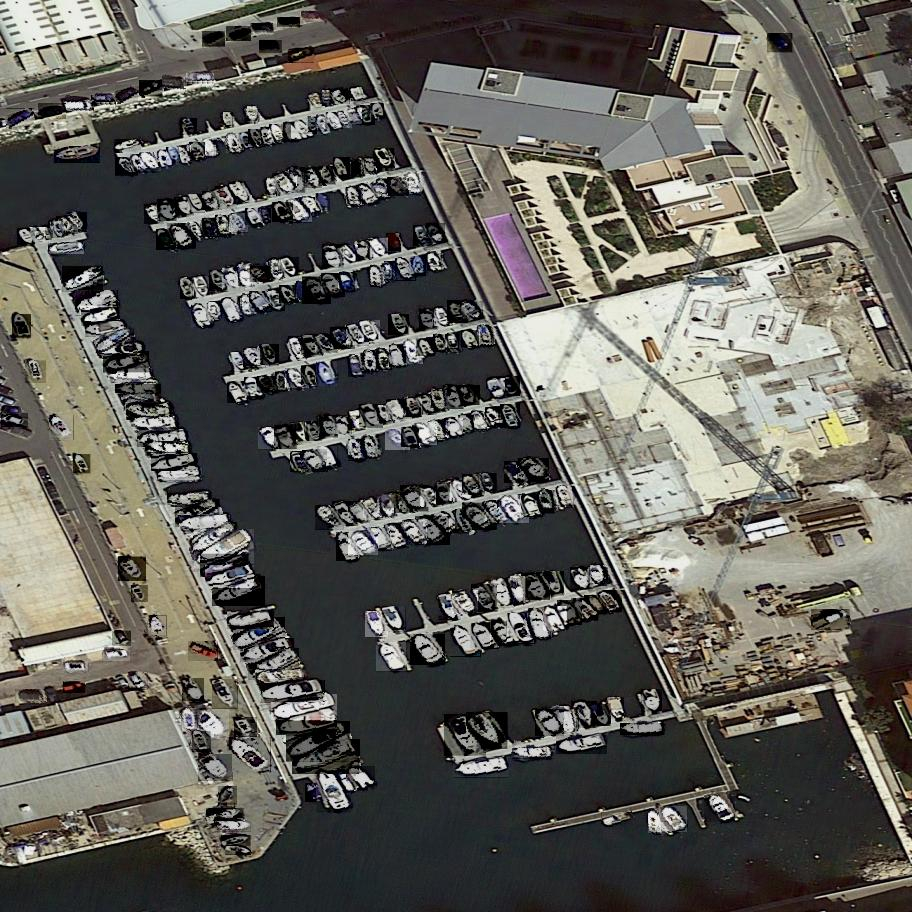ship: (286, 721, 350, 764), (194, 528, 254, 573), (292, 738, 360, 776), (444, 711, 486, 760), (271, 694, 337, 723), (234, 616, 286, 652), (249, 647, 299, 684), (466, 709, 508, 753), (316, 766, 352, 817), (228, 733, 271, 775), (213, 576, 266, 609), (261, 680, 325, 704), (276, 712, 337, 737), (241, 637, 294, 665), (193, 522, 238, 554), (175, 498, 220, 529), (193, 707, 230, 743), (411, 631, 445, 669), (62, 265, 103, 295), (205, 565, 254, 590), (201, 554, 249, 579), (198, 752, 233, 786), (416, 513, 450, 547), (103, 351, 149, 376), (451, 623, 482, 660), (507, 610, 537, 648), (76, 290, 118, 317), (463, 500, 497, 533), (376, 639, 407, 675), (453, 758, 508, 778), (705, 790, 736, 825), (521, 569, 551, 604), (500, 492, 530, 527), (123, 386, 162, 412), (557, 735, 607, 755), (97, 327, 134, 354), (535, 706, 565, 739), (212, 677, 239, 713), (471, 581, 499, 615), (518, 455, 549, 485), (303, 275, 332, 307), (152, 453, 197, 473), (346, 763, 376, 793), (167, 221, 196, 252), (471, 620, 499, 652), (228, 611, 274, 630), (349, 529, 379, 558), (660, 804, 688, 835), (137, 431, 188, 448), (180, 516, 231, 533), (315, 504, 344, 533), (491, 620, 519, 650), (452, 587, 480, 617), (284, 195, 312, 225), (401, 484, 429, 514), (572, 699, 598, 731), (528, 605, 551, 641), (119, 555, 146, 585), (206, 808, 244, 829), (256, 670, 305, 686), (571, 596, 599, 624), (126, 403, 172, 420), (557, 598, 582, 629), (382, 604, 407, 635), (492, 576, 514, 611), (55, 147, 100, 164), (82, 307, 120, 327), (365, 608, 388, 641), (384, 521, 410, 550), (333, 499, 358, 529), (336, 530, 357, 565), (412, 421, 438, 449), (258, 425, 284, 453), (234, 715, 259, 744), (597, 587, 622, 616), (545, 603, 568, 634), (504, 460, 530, 487), (403, 518, 428, 546), (367, 525, 392, 553), (322, 271, 346, 300), (359, 402, 383, 431), (145, 442, 191, 457), (542, 569, 565, 599), (97, 343, 143, 358), (438, 592, 460, 623), (50, 414, 74, 442), (322, 241, 344, 271), (85, 321, 126, 337), (303, 448, 328, 474), (387, 398, 412, 424), (331, 326, 356, 352), (229, 179, 253, 206), (450, 476, 474, 503), (182, 676, 205, 704), (556, 704, 576, 736), (521, 491, 543, 520), (192, 301, 213, 331), (317, 359, 338, 389), (273, 171, 297, 197), (486, 498, 510, 524), (386, 428, 410, 454), (274, 424, 297, 451), (158, 468, 202, 482), (108, 368, 152, 382), (571, 565, 593, 593), (228, 379, 250, 407), (222, 266, 244, 294), (359, 318, 381, 346), (221, 296, 242, 325), (356, 181, 380, 206), (435, 510, 459, 535), (26, 357, 46, 387), (285, 367, 309, 392), (346, 322, 369, 348), (291, 420, 313, 447), (448, 299, 470, 326), (302, 332, 323, 360), (500, 403, 520, 432), (444, 383, 464, 412), (642, 687, 662, 716), (243, 347, 267, 371), (499, 373, 521, 399), (292, 116, 314, 142), (215, 185, 237, 211), (416, 392, 438, 418), (404, 337, 423, 367), (590, 702, 611, 729), (318, 444, 339, 471), (395, 256, 415, 284), (390, 311, 410, 339), (584, 594, 607, 618), (387, 176, 411, 199), (462, 474, 485, 498), (272, 200, 294, 225), (364, 498, 386, 523), (250, 290, 272, 315), (244, 375, 265, 401), (291, 449, 312, 475), (458, 384, 481, 407), (115, 156, 139, 178), (140, 150, 162, 174), (302, 166, 324, 190), (144, 202, 165, 227), (375, 146, 395, 172), (12, 313, 31, 340), (260, 342, 279, 369), (319, 413, 338, 440), (349, 502, 371, 525), (168, 494, 210, 506), (421, 486, 442, 510), (413, 224, 434, 248), (158, 198, 178, 223), (486, 376, 506, 401), (192, 728, 211, 754), (180, 275, 198, 302), (289, 336, 307, 363), (56, 214, 78, 236), (316, 333, 338, 355), (462, 300, 484, 322), (67, 211, 88, 234), (368, 237, 389, 260), (339, 242, 360, 265), (174, 195, 194, 219), (280, 255, 300, 279), (337, 768, 354, 796), (157, 227, 176, 252), (193, 274, 212, 299), (210, 268, 229, 293), (444, 416, 463, 441), (229, 350, 248, 375), (603, 812, 632, 828), (257, 374, 279, 395), (356, 104, 376, 127), (426, 222, 446, 245), (268, 287, 285, 314), (486, 405, 505, 429), (302, 364, 321, 388), (461, 327, 480, 351), (49, 242, 84, 255), (132, 418, 177, 428), (511, 575, 526, 605), (394, 491, 412, 516), (436, 481, 454, 506), (420, 307, 438, 332), (607, 696, 624, 722), (620, 724, 664, 734), (203, 190, 223, 212), (250, 264, 273, 283), (416, 337, 435, 360), (73, 452, 91, 476), (115, 139, 142, 155), (156, 146, 174, 170), (149, 614, 167, 638), (349, 408, 367, 432), (434, 305, 452, 329), (348, 437, 365, 462), (230, 213, 249, 235), (280, 283, 299, 305), (390, 343, 406, 369), (405, 396, 423, 419), (202, 216, 219, 240), (557, 484, 574, 508), (402, 426, 419, 450), (116, 384, 161, 393), (290, 166, 305, 193), (364, 434, 379, 461), (284, 120, 300, 145), (348, 354, 364, 379), (376, 347, 392, 372), (325, 110, 344, 131), (219, 786, 237, 808), (306, 782, 324, 804), (131, 152, 149, 174), (245, 206, 263, 228), (189, 192, 206, 215), (180, 116, 197, 139), (221, 835, 251, 848), (216, 213, 232, 237), (456, 508, 472, 532), (472, 409, 488, 433), (431, 388, 447, 412), (431, 418, 447, 442), (340, 271, 356, 295), (17, 227, 35, 248), (318, 166, 336, 187), (303, 196, 321, 217), (406, 171, 421, 196), (240, 263, 255, 288), (333, 157, 350, 179), (226, 132, 242, 155), (336, 414, 352, 437), (434, 332, 450, 355), (182, 708, 197, 732), (131, 584, 149, 604), (513, 749, 553, 758), (308, 92, 326, 112), (345, 106, 363, 126), (176, 144, 193, 165), (190, 140, 206, 162), (307, 421, 323, 443), (541, 489, 555, 514), (381, 494, 395, 519), (270, 123, 286, 144), (337, 109, 353, 130), (187, 221, 203, 242), (458, 413, 474, 434), (355, 240, 371, 261), (482, 471, 497, 493), (428, 251, 443, 273), (28, 226, 46, 244), (317, 114, 331, 137), (479, 324, 493, 347), (249, 127, 265, 147), (239, 129, 254, 150), (261, 125, 275, 147), (217, 822, 251, 831), (333, 88, 350, 106), (316, 192, 331, 212), (386, 233, 401, 253), (370, 265, 383, 288), (347, 186, 361, 207), (649, 811, 662, 833), (378, 405, 393, 424), (242, 294, 254, 317), (270, 258, 282, 281), (51, 219, 64, 240), (275, 371, 288, 392), (297, 281, 310, 302), (208, 301, 222, 320), (364, 350, 376, 372), (225, 846, 251, 856), (166, 147, 180, 165), (590, 566, 604, 583), (370, 102, 384, 119), (40, 226, 54, 242), (350, 87, 364, 102), (203, 138, 214, 157), (377, 179, 387, 199), (308, 116, 319, 134), (447, 333, 459, 349), (323, 89, 334, 106), (247, 106, 258, 122), (364, 157, 375, 173), (261, 207, 271, 224), (352, 160, 361, 178), (416, 257, 425, 275), (384, 262, 393, 280), (268, 178, 276, 196), (223, 113, 232, 127)
small-vehicle: (811, 609, 849, 632), (767, 30, 793, 56), (6, 108, 34, 130), (189, 641, 218, 662), (139, 79, 163, 99), (39, 103, 67, 120), (288, 47, 314, 65), (115, 85, 139, 104), (227, 26, 252, 43), (128, 671, 148, 692), (2, 413, 28, 429), (202, 31, 225, 49), (112, 629, 131, 649), (16, 690, 47, 702), (258, 40, 282, 53), (104, 650, 130, 662), (64, 681, 86, 695), (365, 31, 388, 44), (186, 73, 214, 83), (64, 101, 92, 110), (277, 17, 300, 27), (301, 12, 326, 21), (162, 79, 185, 88), (250, 23, 272, 32), (64, 663, 88, 671), (92, 95, 115, 103), (1, 407, 21, 416)
